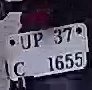1: (45, 53, 55, 74)
3: (52, 27, 63, 48)
5: (64, 51, 75, 70), (75, 50, 85, 68)
6: (54, 54, 65, 71)
7: (62, 24, 73, 44)
C: (12, 60, 27, 78)
P: (31, 29, 44, 48)
U: (18, 31, 33, 51)
